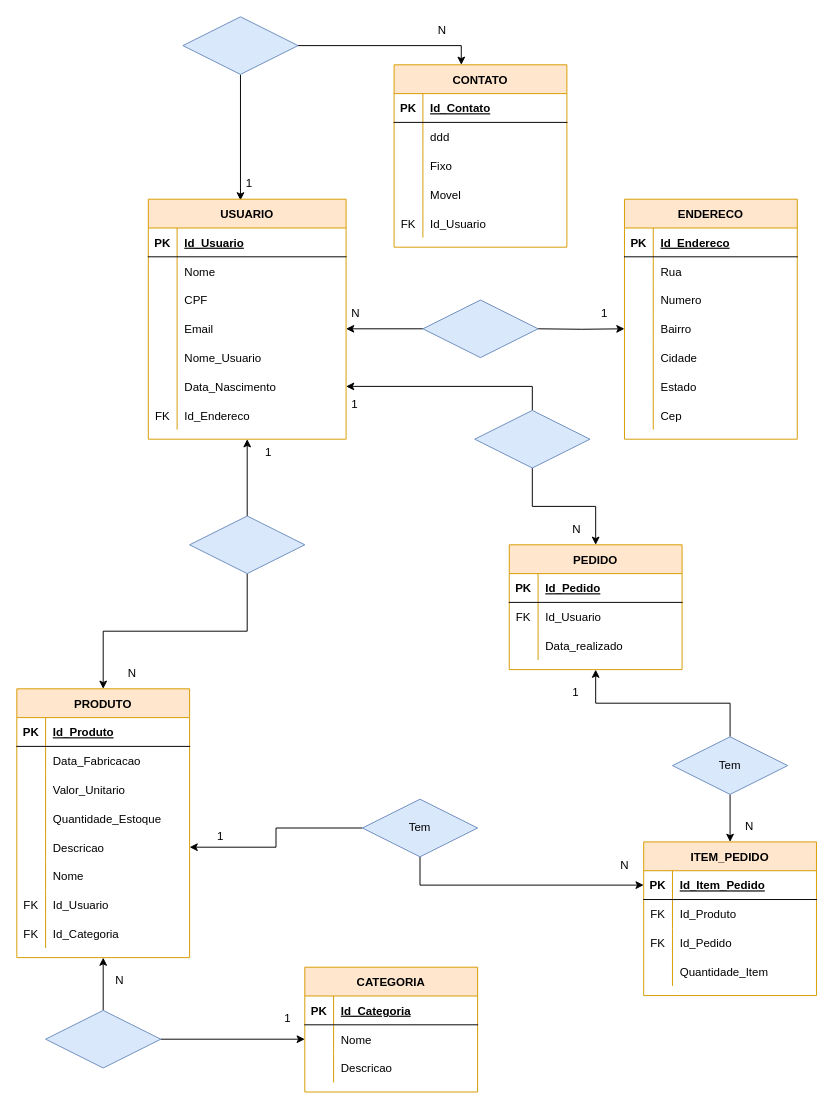
Image size: 833x1109. Some labels were removed from this diagram. Each missing label, with the box of its shape:
Associa: (45, 1009, 161, 1068)
Faz: (474, 409, 590, 468)
Pertence: (182, 16, 298, 74)
Possui: (422, 299, 538, 358)
Vende: (189, 515, 305, 574)
